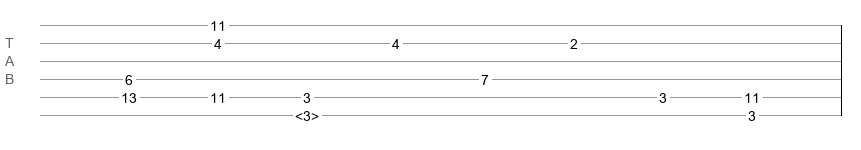11: (210, 18, 226, 28), (210, 90, 226, 100), (744, 90, 760, 100)
13: (121, 90, 137, 100)
2: (570, 36, 578, 46)
3: (303, 90, 311, 100), (659, 90, 667, 100), (748, 108, 756, 118)
4: (214, 36, 222, 46), (392, 36, 400, 46)
6: (125, 72, 133, 82)
7: (481, 72, 489, 82)
harmonic: (295, 108, 319, 118)
